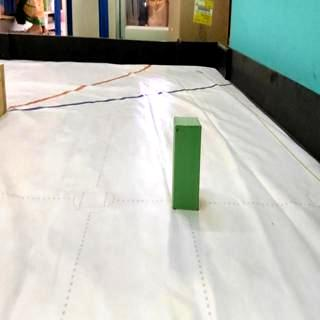greenbox: (172, 116, 203, 211)
